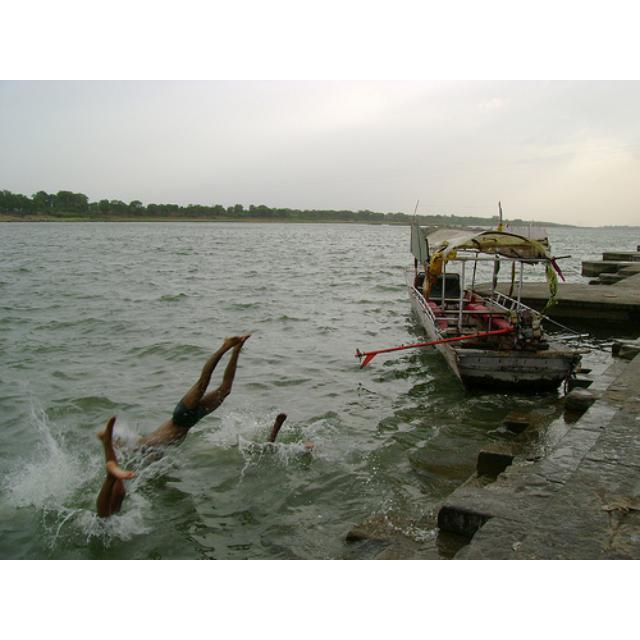human: (138, 332, 249, 456), (92, 412, 135, 525)
